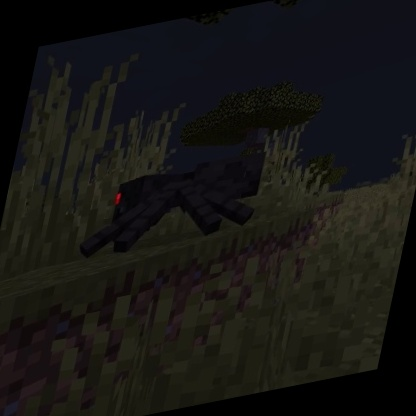spider: (73, 144, 275, 265)
